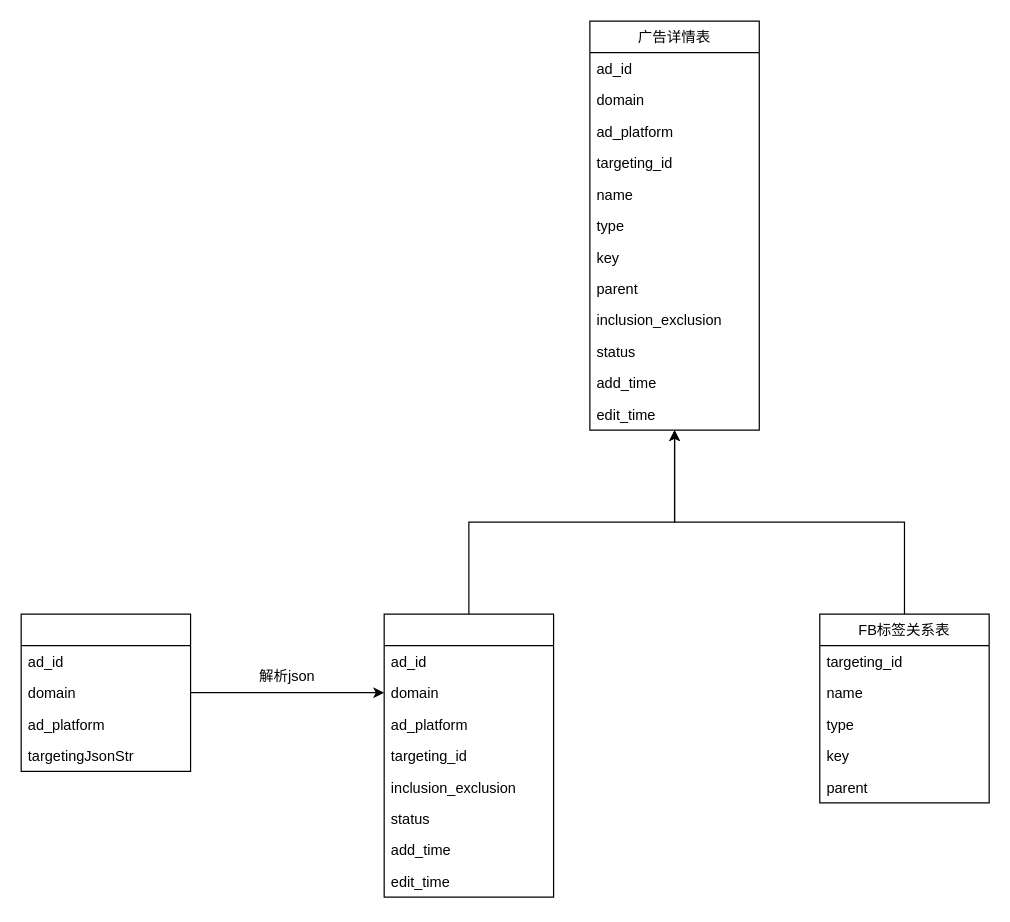
Some shapes in this 1010 by 922 pixel diagram are drawn without their labels. The box of each missing label's shape, as (x1, y1, x2, y2) in pixels:
广告宽表: (20, 613, 191, 771)
广告详情中间表: (383, 613, 554, 897)
